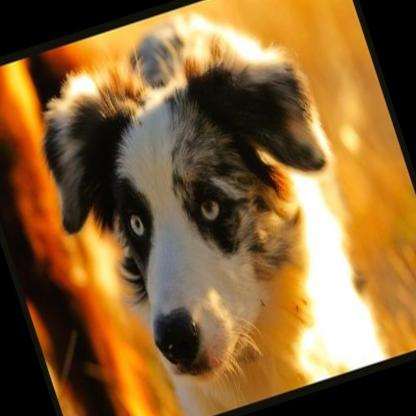Border_collie: (9, 0, 402, 416)
